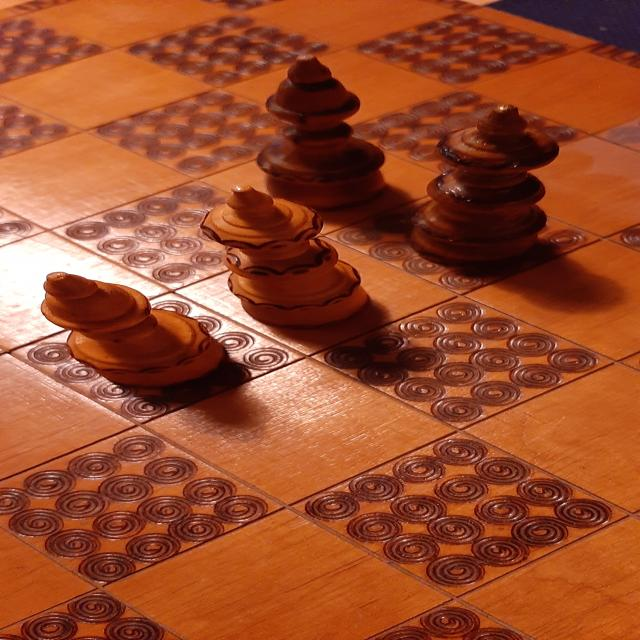black-king: (406, 104, 562, 269)
black-queen: (253, 53, 388, 212)
white-king: (199, 184, 374, 328)
white-queen: (38, 271, 228, 388)
